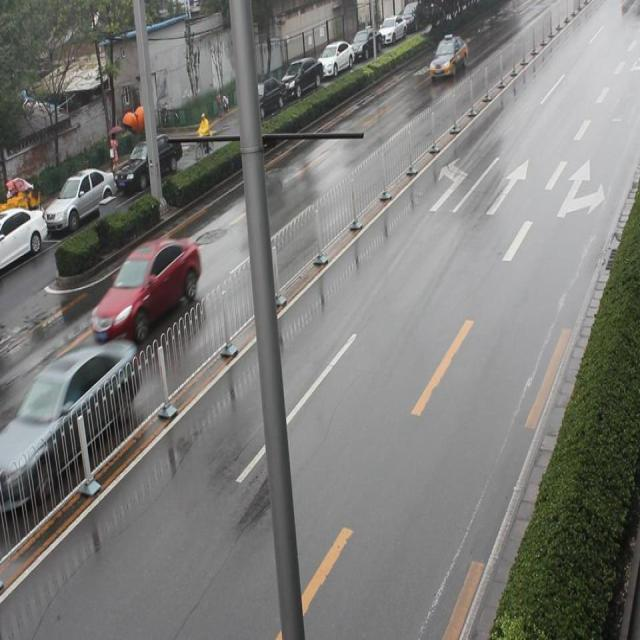car: (1, 346, 143, 504), (88, 236, 202, 347), (426, 31, 472, 88)
